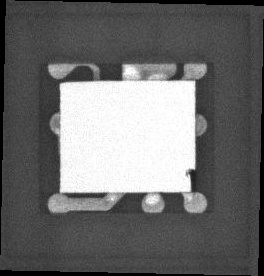DIE_BROKEN: (184, 166, 195, 191)
